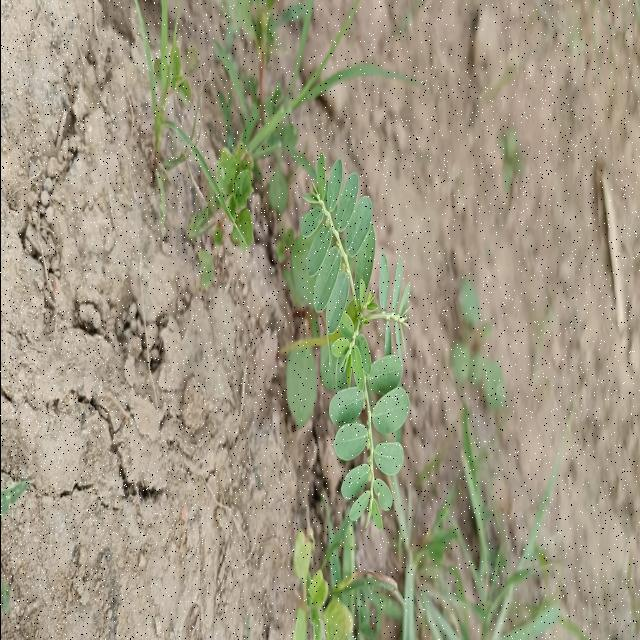weed: (294, 0, 640, 634)
